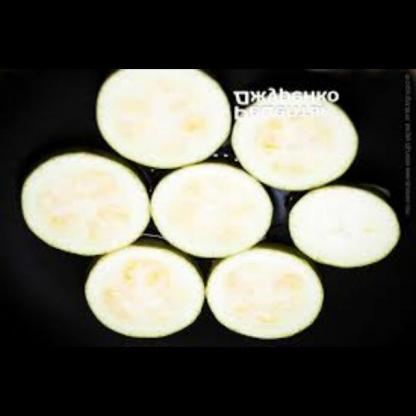vegetable marrow: (88, 70, 232, 182), (20, 151, 161, 262), (234, 82, 361, 197), (151, 164, 287, 268), (62, 250, 202, 348), (206, 240, 328, 348), (281, 181, 416, 272)
